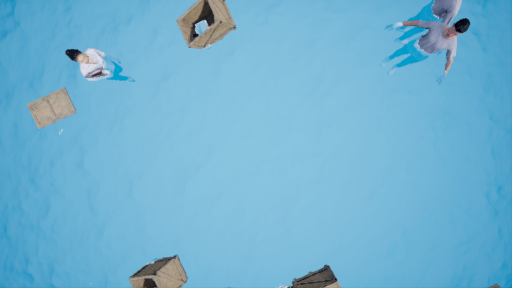person: (382, 18, 474, 84), (60, 44, 142, 87)
